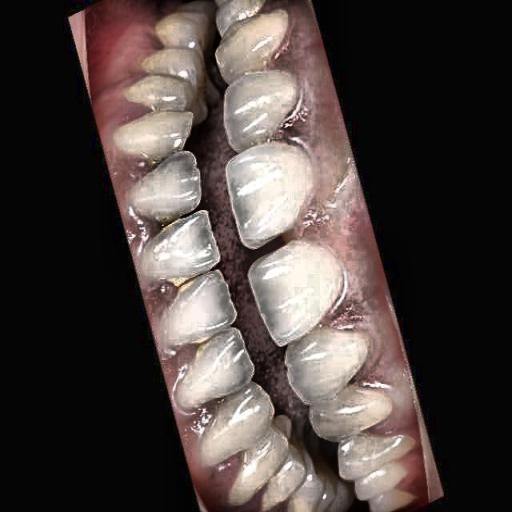Healthy: (135, 22, 403, 467)
